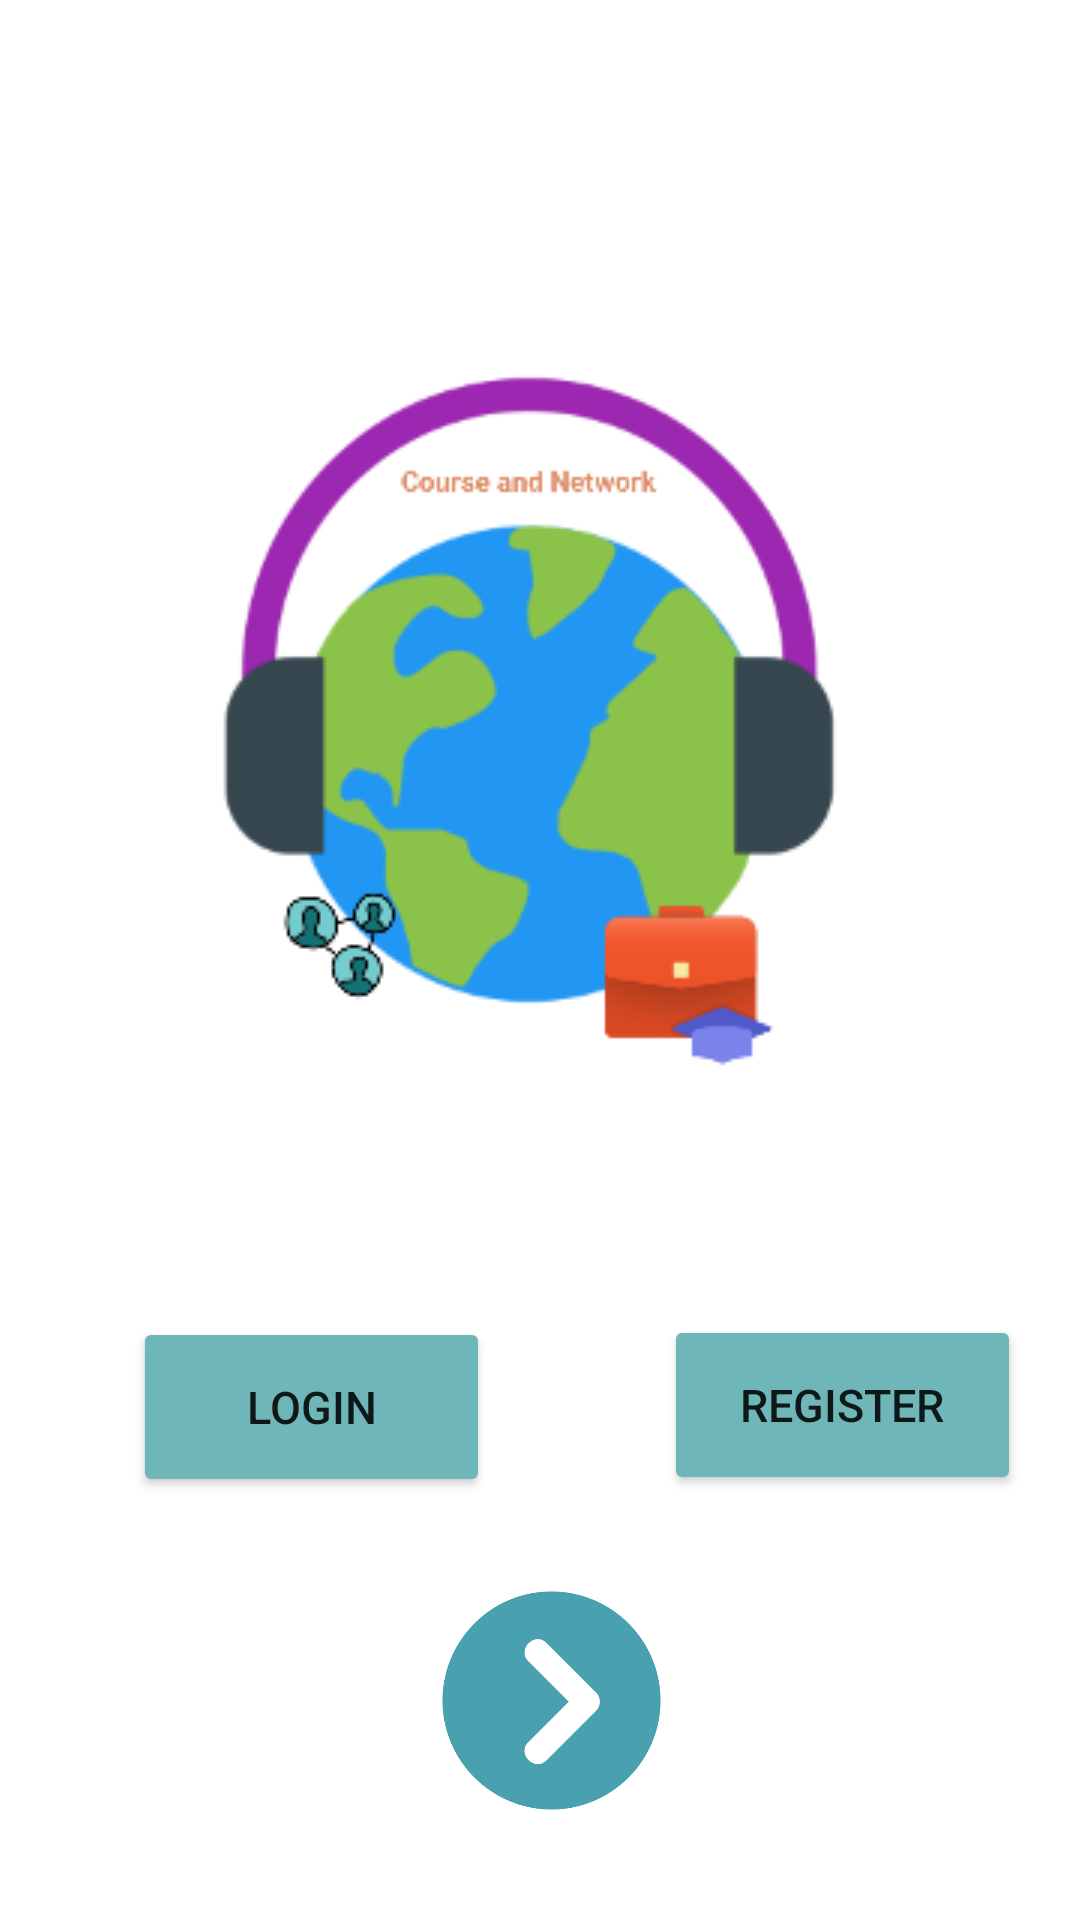

Screen size 1080w x 1920h. Icon name, then its center in pixels as point (x, y):
next page: point (551, 1700)
